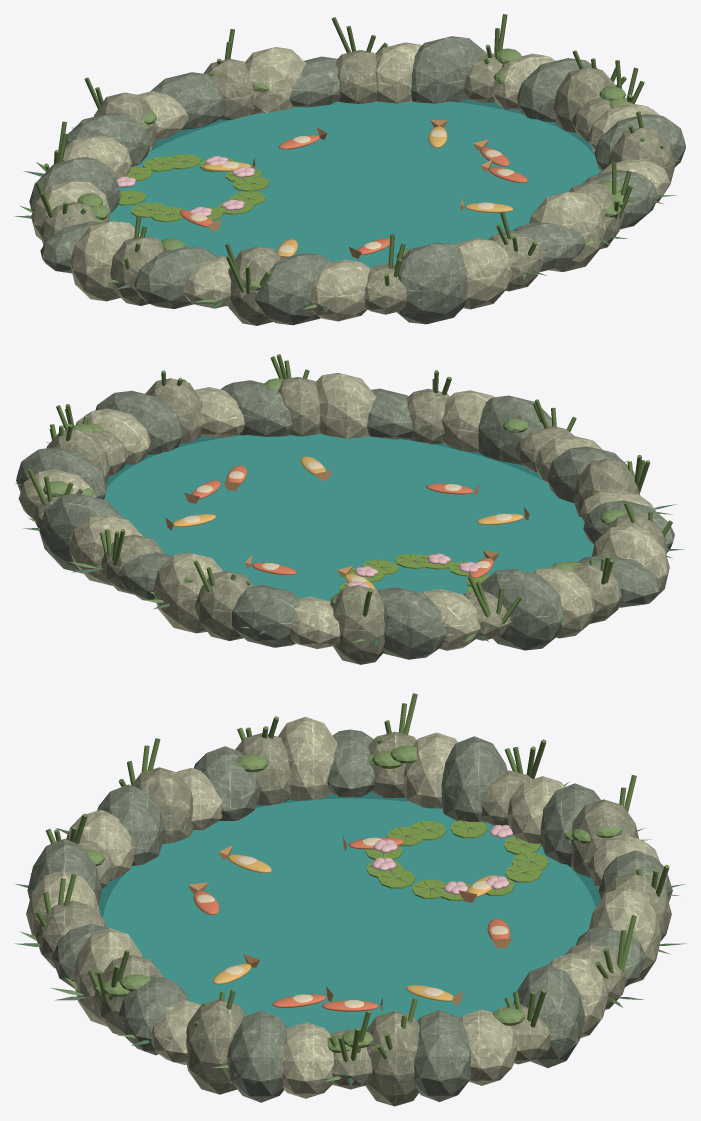
The model's file is base_pond-exterior-refined-v1.glb.
3 renders of one model, top to bottom at view 1: azimuth 30°, elevation 25°; view 2: azimuth 150°, elevation 25°; view 3: azimuth 270°, elevation 25°, orthographic. The views are drawn at different scales.
Parts seen in each view (by area): view 1: base_pond_01_原有建筑轮廓与构件_EX_469f98_plain_surface, base_pond_04_石材绿植与陈设_EX_7e8774_dark_rock_surface, base_pond_04_石材绿植与陈设_EX_b3b295_dark_rock_surface, base_pond_04_石材绿植与陈设_EX_93947b_dark_rock_surface, base_pond_01_原有建筑轮廓与构件_EX_6d8b4e_plain_surface, base_pond_01_原有建筑轮廓与构件_EX_80a34e_plain_surface, base_pond_04_石材绿植与陈设_EX_7d9861_plain_surface, base_pond_04_石材绿植与陈设_EX_df815e_plain_surface, base_pond_04_石材绿植与陈设_EX_e6ba6b_plain_surface, base_pond_04_石材绿植与陈设_EX_ead9b7_plain_surface, base_pond_04_石材绿植与陈设_EX_e9c1c5_plain_surface, base_pond_01_原有建筑轮廓与构件_EX_337e79_plain_surface (+2 smaller); view 2: base_pond_01_原有建筑轮廓与构件_EX_469f98_plain_surface, base_pond_04_石材绿植与陈设_EX_7e8774_dark_rock_surface, base_pond_04_石材绿植与陈设_EX_b3b295_dark_rock_surface, base_pond_04_石材绿植与陈设_EX_93947b_dark_rock_surface, base_pond_01_原有建筑轮廓与构件_EX_6d8b4e_plain_surface, base_pond_04_石材绿植与陈设_EX_7d9861_plain_surface, base_pond_01_原有建筑轮廓与构件_EX_80a34e_plain_surface, base_pond_04_石材绿植与陈设_EX_df815e_plain_surface, base_pond_04_石材绿植与陈设_EX_e6ba6b_plain_surface, base_pond_04_石材绿植与陈设_EX_ead9b7_plain_surface, base_pond_01_原有建筑轮廓与构件_EX_d4a16e_plain_surface, base_pond_01_原有建筑轮廓与构件_EX_337e79_plain_surface (+1 smaller); view 3: base_pond_01_原有建筑轮廓与构件_EX_469f98_plain_surface, base_pond_04_石材绿植与陈设_EX_7e8774_dark_rock_surface, base_pond_04_石材绿植与陈设_EX_b3b295_dark_rock_surface, base_pond_04_石材绿植与陈设_EX_93947b_dark_rock_surface, base_pond_01_原有建筑轮廓与构件_EX_6d8b4e_plain_surface, base_pond_01_原有建筑轮廓与构件_EX_80a34e_plain_surface, base_pond_04_石材绿植与陈设_EX_7d9861_plain_surface, base_pond_04_石材绿植与陈设_EX_df815e_plain_surface, base_pond_04_石材绿植与陈设_EX_e6ba6b_plain_surface, base_pond_04_石材绿植与陈设_EX_e9c1c5_plain_surface, base_pond_04_石材绿植与陈设_EX_ead9b7_plain_surface, base_pond_01_原有建筑轮廓与构件_EX_337e79_plain_surface (+2 smaller).
Part boxes in pixels (x1,y1,x2,y2): base_pond_01_原有建筑轮廓与构件_EX_469f98_plain_surface: [108, 101, 600, 267]; base_pond_04_石材绿植与陈设_EX_7e8774_dark_rock_surface: [29, 36, 685, 325]; base_pond_04_石材绿植与陈设_EX_b3b295_dark_rock_surface: [31, 42, 670, 321]; base_pond_04_石材绿植与陈设_EX_93947b_dark_rock_surface: [39, 50, 674, 325]; base_pond_01_原有建筑轮廓与构件_EX_6d8b4e_plain_surface: [35, 14, 663, 293]; base_pond_01_原有建筑轮廓与构件_EX_80a34e_plain_surface: [118, 154, 269, 222]; base_pond_04_石材绿植与陈设_EX_7d9861_plain_surface: [77, 48, 631, 289]; base_pond_04_石材绿植与陈设_EX_df815e_plain_surface: [180, 135, 527, 254]; base_pond_04_石材绿植与陈设_EX_e6ba6b_plain_surface: [203, 126, 513, 256]; base_pond_04_石材绿植与陈设_EX_ead9b7_plain_surface: [190, 129, 514, 252]; base_pond_04_石材绿植与陈设_EX_e9c1c5_plain_surface: [117, 156, 254, 216]; base_pond_01_原有建筑轮廓与构件_EX_337e79_plain_surface: [152, 99, 595, 306]; base_pond_01_原有建筑轮廓与构件_EX_469f98_plain_surface: [104, 433, 594, 601]; base_pond_04_石材绿植与陈设_EX_7e8774_dark_rock_surface: [16, 380, 674, 659]; base_pond_04_石材绿植与陈设_EX_b3b295_dark_rock_surface: [18, 373, 669, 650]; base_pond_04_石材绿植与陈设_EX_93947b_dark_rock_surface: [33, 377, 667, 664]; base_pond_01_原有建筑轮廓与构件_EX_6d8b4e_plain_surface: [27, 354, 672, 623]; base_pond_04_石材绿植与陈设_EX_7d9861_plain_surface: [43, 378, 634, 605]; base_pond_01_原有建筑轮廓与构件_EX_80a34e_plain_surface: [339, 553, 489, 591]; base_pond_04_石材绿植与陈设_EX_df815e_plain_surface: [192, 465, 493, 578]; base_pond_04_石材绿植与陈设_EX_e6ba6b_plain_surface: [173, 456, 523, 589]; base_pond_04_石材绿植与陈设_EX_ead9b7_plain_surface: [182, 461, 512, 582]; base_pond_01_原有建筑轮廓与构件_EX_d4a16e_plain_surface: [165, 470, 529, 576]; base_pond_01_原有建筑轮廓与构件_EX_337e79_plain_surface: [107, 434, 543, 486]; base_pond_01_原有建筑轮廓与构件_EX_469f98_plain_surface: [103, 798, 595, 1033]; base_pond_04_石材绿植与陈设_EX_7e8774_dark_rock_surface: [27, 729, 672, 1102]; base_pond_04_石材绿植与陈设_EX_b3b295_dark_rock_surface: [26, 716, 661, 1098]; base_pond_04_石材绿植与陈设_EX_93947b_dark_rock_surface: [35, 731, 671, 1106]; base_pond_01_原有建筑轮廓与构件_EX_6d8b4e_plain_surface: [35, 693, 669, 1061]; base_pond_01_原有建筑轮廓与构件_EX_80a34e_plain_surface: [365, 820, 548, 900]; base_pond_04_石材绿植与陈设_EX_7d9861_plain_surface: [86, 745, 653, 1052]; base_pond_04_石材绿植与陈设_EX_df815e_plain_surface: [193, 837, 510, 1011]; base_pond_04_石材绿植与陈设_EX_e6ba6b_plain_surface: [213, 854, 497, 1001]; base_pond_04_石材绿植与陈设_EX_e9c1c5_plain_surface: [372, 825, 512, 894]; base_pond_04_石材绿植与陈设_EX_ead9b7_plain_surface: [196, 837, 508, 1007]; base_pond_01_原有建筑轮廓与构件_EX_337e79_plain_surface: [98, 792, 601, 917].
Size of the model in its own units: 13.24 by 1.86 by 10.83.
16 materials, 3 textured.
